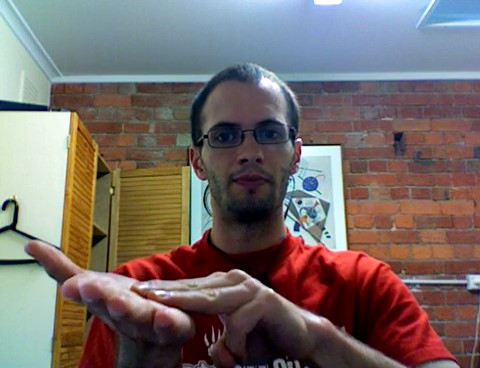M: (14, 226, 324, 365)
